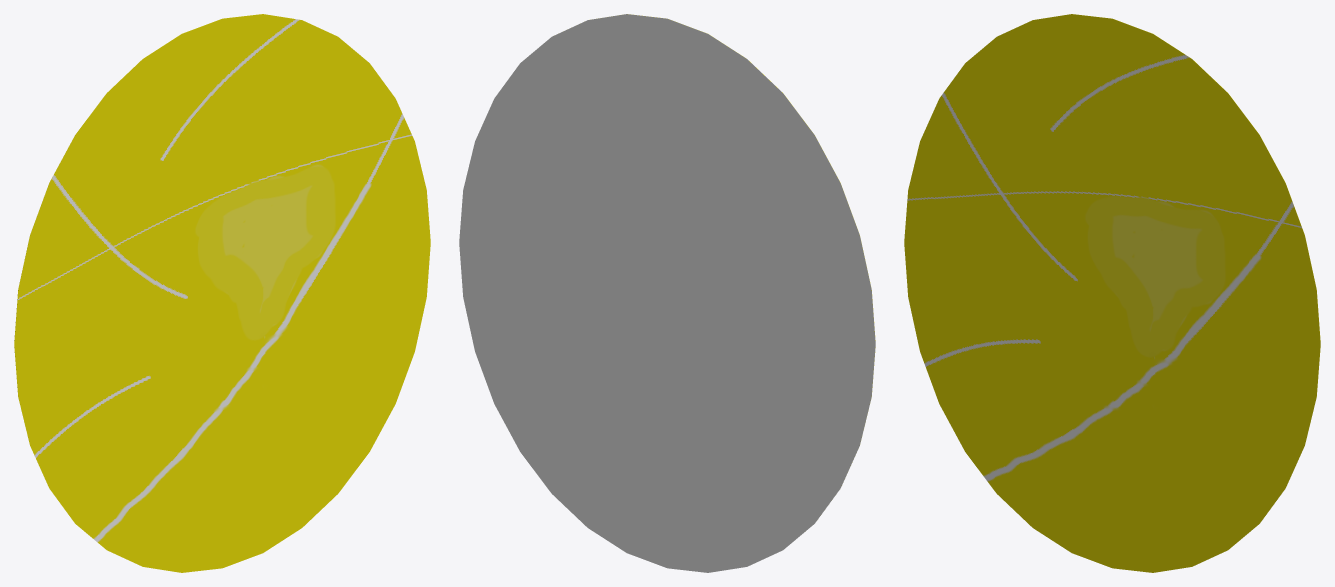
Rendered from Divine Shield.glb.
3 views of the same model, side by side, from view 1: azimuth 30°, elevation 25°; view 2: azimuth 150°, elevation 25°; view 3: azimuth 330°, elevation 25° (orthographic).
Visible parts, largest first — view 1: Cylinder.001; view 2: Cylinder.001; view 3: Cylinder.001.
Part boxes in pixels (x1,y1,x2,y2): Cylinder.001: (14, 14, 430, 572); Cylinder.001: (459, 14, 875, 572); Cylinder.001: (904, 14, 1320, 572).
Size of the model in its own units: 5.94 by 7.49 by 0.002.
Materials: 1 (1 with a texture image).
